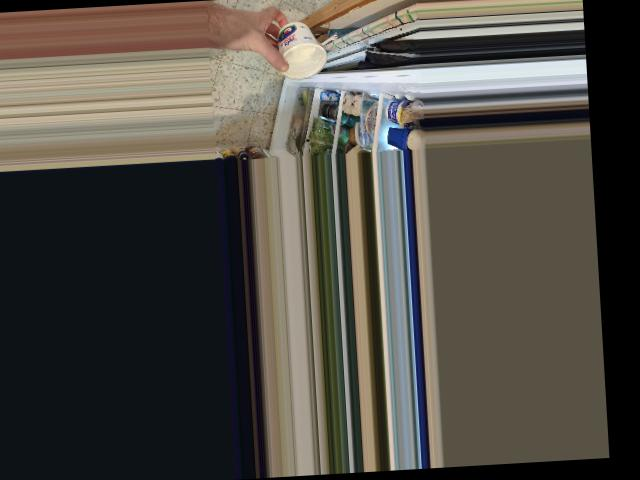cotage: (273, 19, 324, 75)
